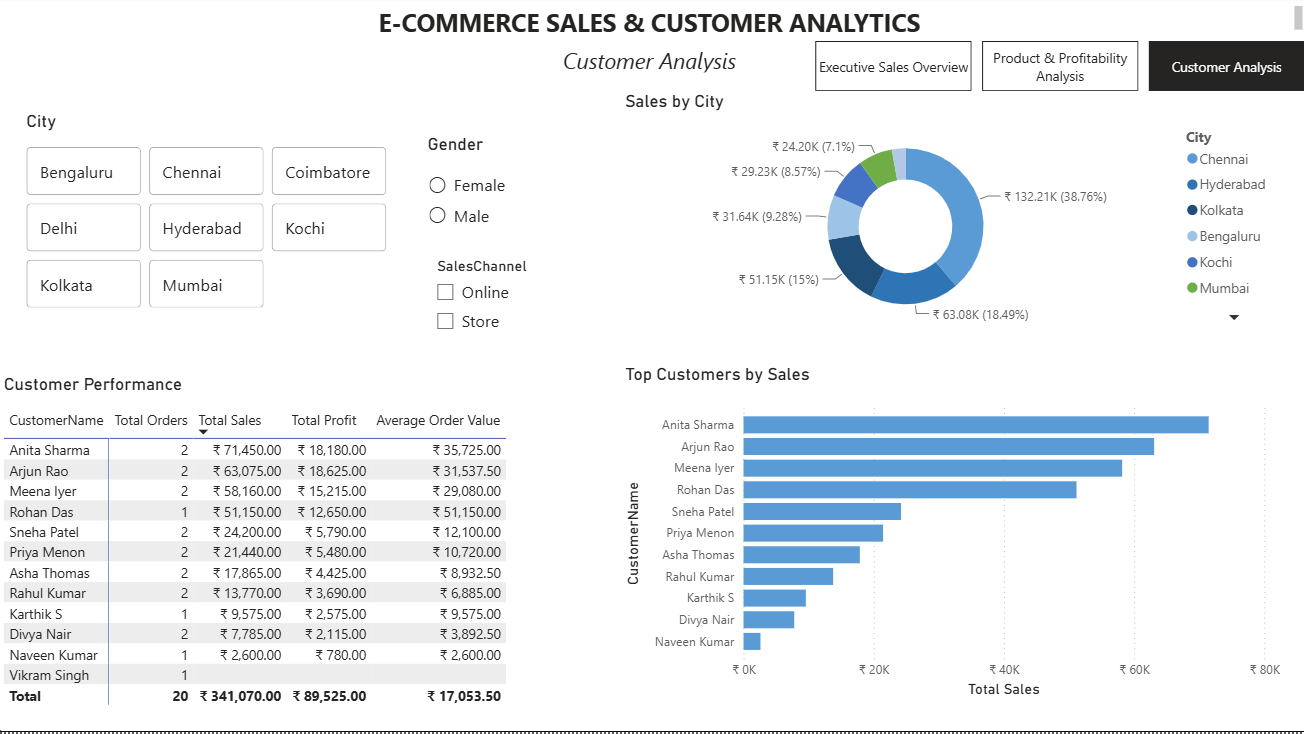

Layout of this report page (visuals, bound fields, positions):
{"tool":"powerbi","page":{"name":"Customer Analysis","canvas":[1280,720],"ordinal":2},"visuals":[{"type":"clusteredBarChart","title":"Top Customers by Sales","fields":{"Category":["Customers.CustomerName"],"Y":["Order_Details.Total Sales"]},"box":[608,359.5,650.3,331.8],"z":0},{"type":"pivotTable","title":"Customer Performance","fields":{"Rows":["Customers.CustomerName"],"Values":["Orders.Total Orders","Order_Details.Total Sales","Order_Details.Total Profit","Orders.Average Order Value"]},"box":[0,369.3,522.1,333.8],"z":1000},{"type":"donutChart","title":"Sales by City","fields":{"Category":["Customers.City"],"Y":["Order_Details.Total Sales"]},"box":[607.9,93.3,650.4,234.6],"z":2000},{"type":"advancedSlicerVisual","fields":{"Values":["Customers.City"]},"box":[21.7,112.2,363.1,197.9],"z":3000},{"type":"listSlicer","fields":{"Values":["Customers.Gender"]},"box":[414.4,134.5,155.1,100.2],"z":4000},{"type":"slicer","fields":{"Values":["Orders.SalesChannel"]},"box":[416.2,250.9,152.3,108.4],"z":5000},{"type":"textbox","box":[0,5.5,1280.3,37],"z":6000},{"type":"textbox","box":[0,42.8,1280.3,36.7],"z":7000},{"type":"pageNavigator","box":[798.6,43.9,481.6,49.4],"z":7001}]}

Visuals, with their boxes in screenshot pixels (x1, y1, x2, y2), scaled from the page's 1280x720 canvas onto the 1304x734 screenshot:
"Top Customers by Sales" clusteredBarChart: region(619, 366, 1282, 705)
"Customer Performance" pivotTable: region(0, 376, 532, 717)
"Sales by City" donutChart: region(619, 95, 1282, 334)
advancedSlicerVisual - Customers.City: region(22, 114, 392, 316)
listSlicer - Customers.Gender: region(422, 137, 580, 239)
slicer - Orders.SalesChannel: region(424, 256, 579, 366)
textbox: region(0, 6, 1303, 43)
textbox: region(0, 44, 1303, 81)
pageNavigator: region(814, 45, 1303, 95)
